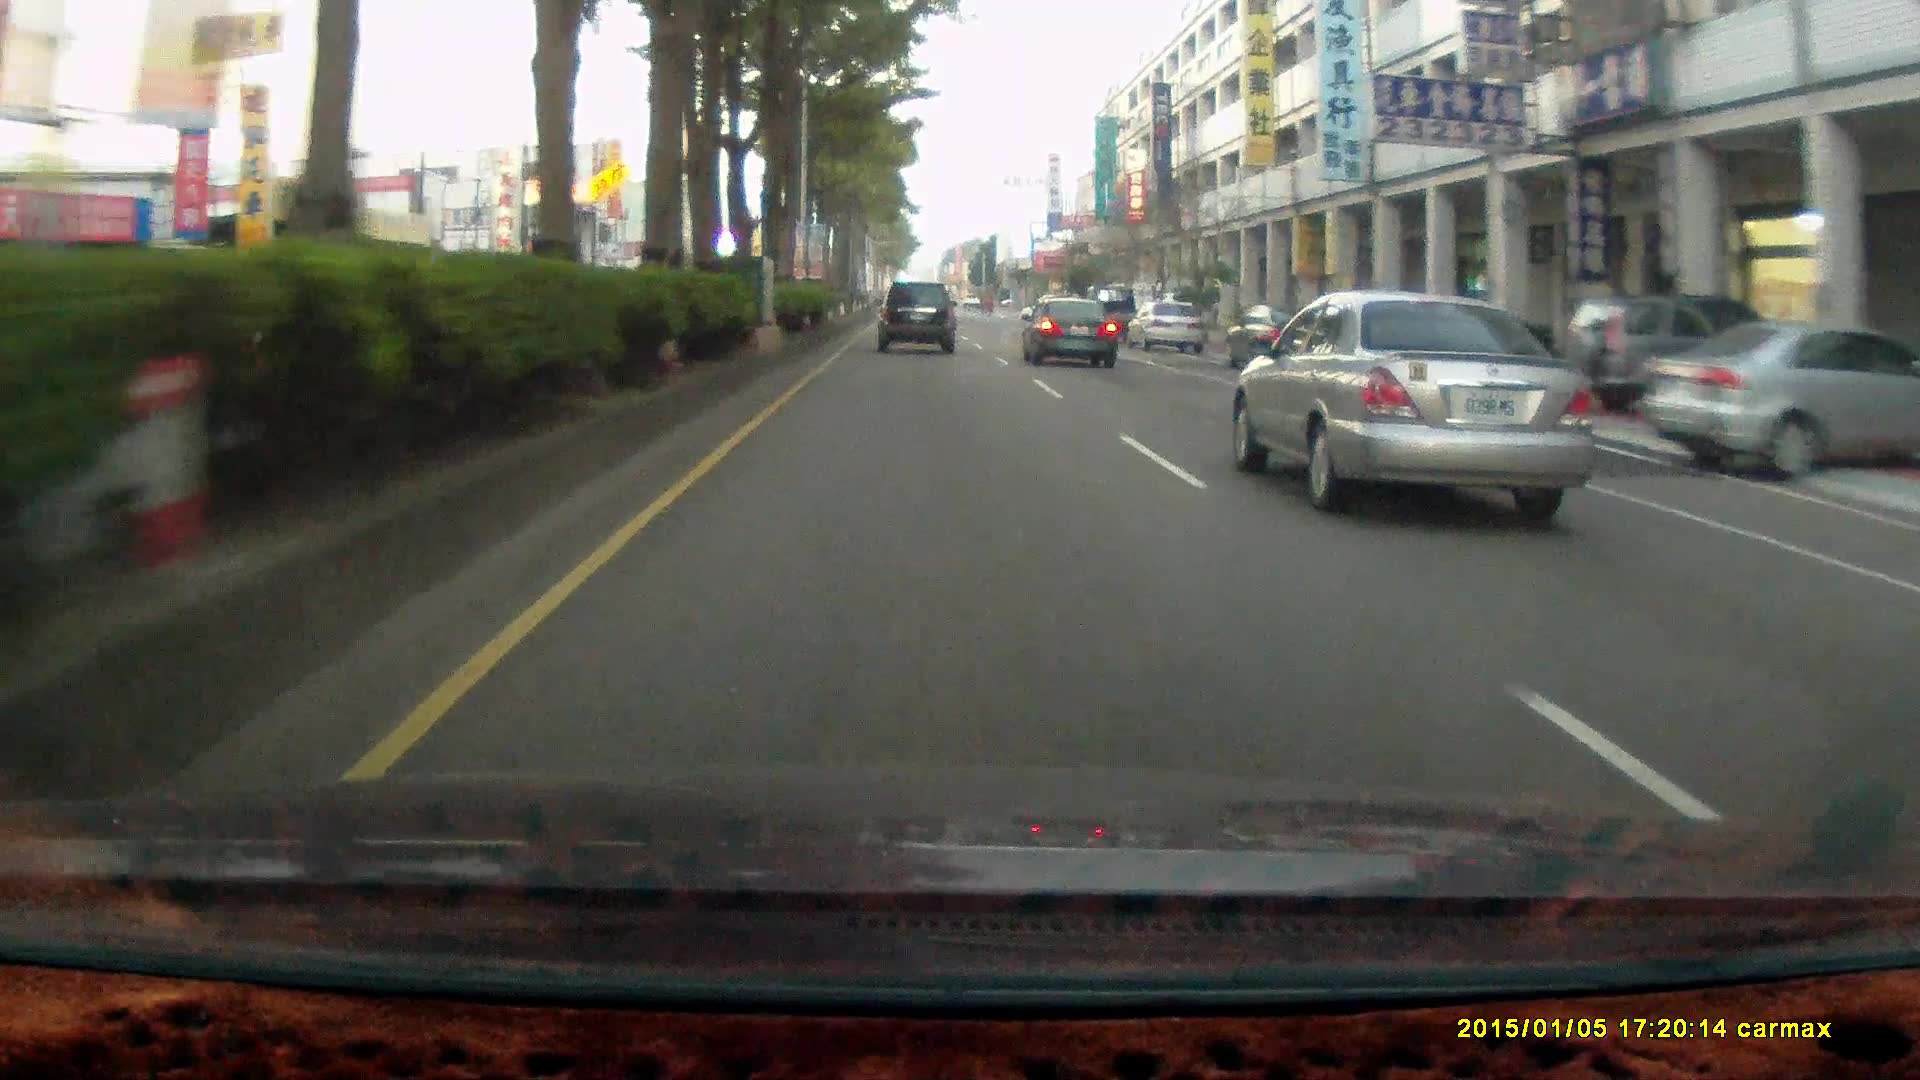vehicle: (1226, 286, 1607, 516), (1640, 323, 1920, 485), (1643, 322, 1920, 483), (1563, 294, 1783, 415), (1561, 294, 1782, 414), (1222, 297, 1354, 372), (1018, 294, 1116, 369), (1022, 295, 1124, 367), (876, 281, 959, 356), (874, 278, 957, 349), (1124, 298, 1207, 352), (1134, 301, 1209, 352), (1085, 284, 1146, 342)
